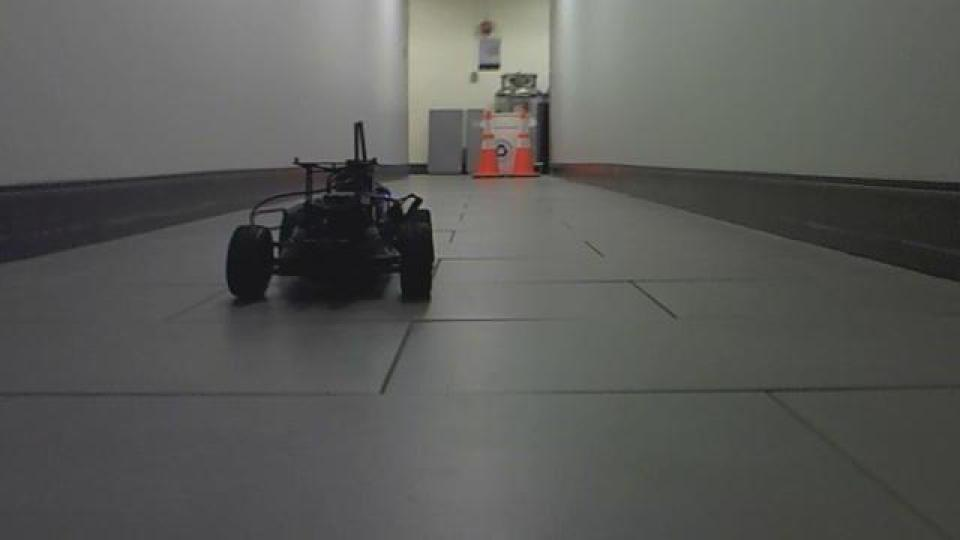car: (224, 115, 438, 310)
